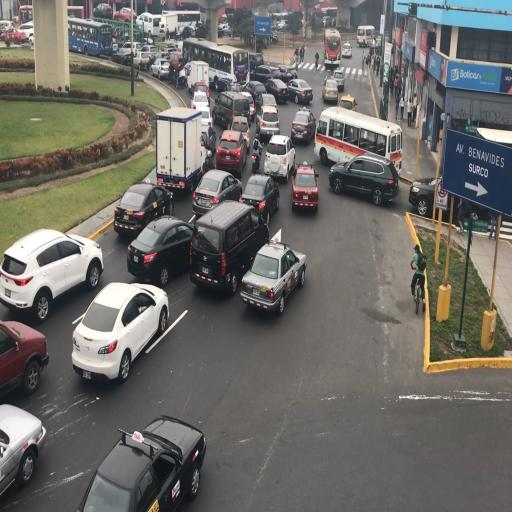auto: (71, 413, 204, 511), (71, 279, 168, 379), (1, 229, 103, 320), (192, 199, 270, 295), (126, 215, 194, 287), (240, 238, 305, 313), (0, 405, 46, 504), (0, 317, 48, 402), (410, 177, 492, 225), (331, 152, 398, 205), (114, 179, 173, 237), (192, 168, 242, 217), (242, 173, 280, 221), (215, 128, 248, 178), (212, 89, 252, 130), (264, 134, 295, 180), (291, 162, 318, 212), (290, 106, 316, 145), (256, 103, 280, 141), (229, 114, 252, 152), (245, 79, 268, 109), (286, 78, 312, 104), (264, 77, 289, 104), (168, 50, 187, 83), (254, 64, 280, 87), (192, 90, 210, 120), (1, 26, 28, 44), (151, 58, 172, 80), (276, 64, 298, 84), (128, 48, 148, 70), (138, 44, 157, 66), (322, 77, 338, 103), (118, 40, 140, 57), (331, 68, 346, 92), (114, 7, 136, 23), (93, 2, 112, 20), (338, 93, 356, 111), (0, 20, 15, 31), (342, 42, 352, 58), (218, 22, 229, 31), (270, 31, 278, 43)
bus: (182, 37, 240, 91), (67, 15, 112, 56), (167, 8, 202, 38), (138, 12, 167, 40), (324, 27, 342, 67), (356, 24, 374, 48), (18, 5, 33, 25)
camion: (154, 106, 204, 198), (186, 60, 209, 97)
